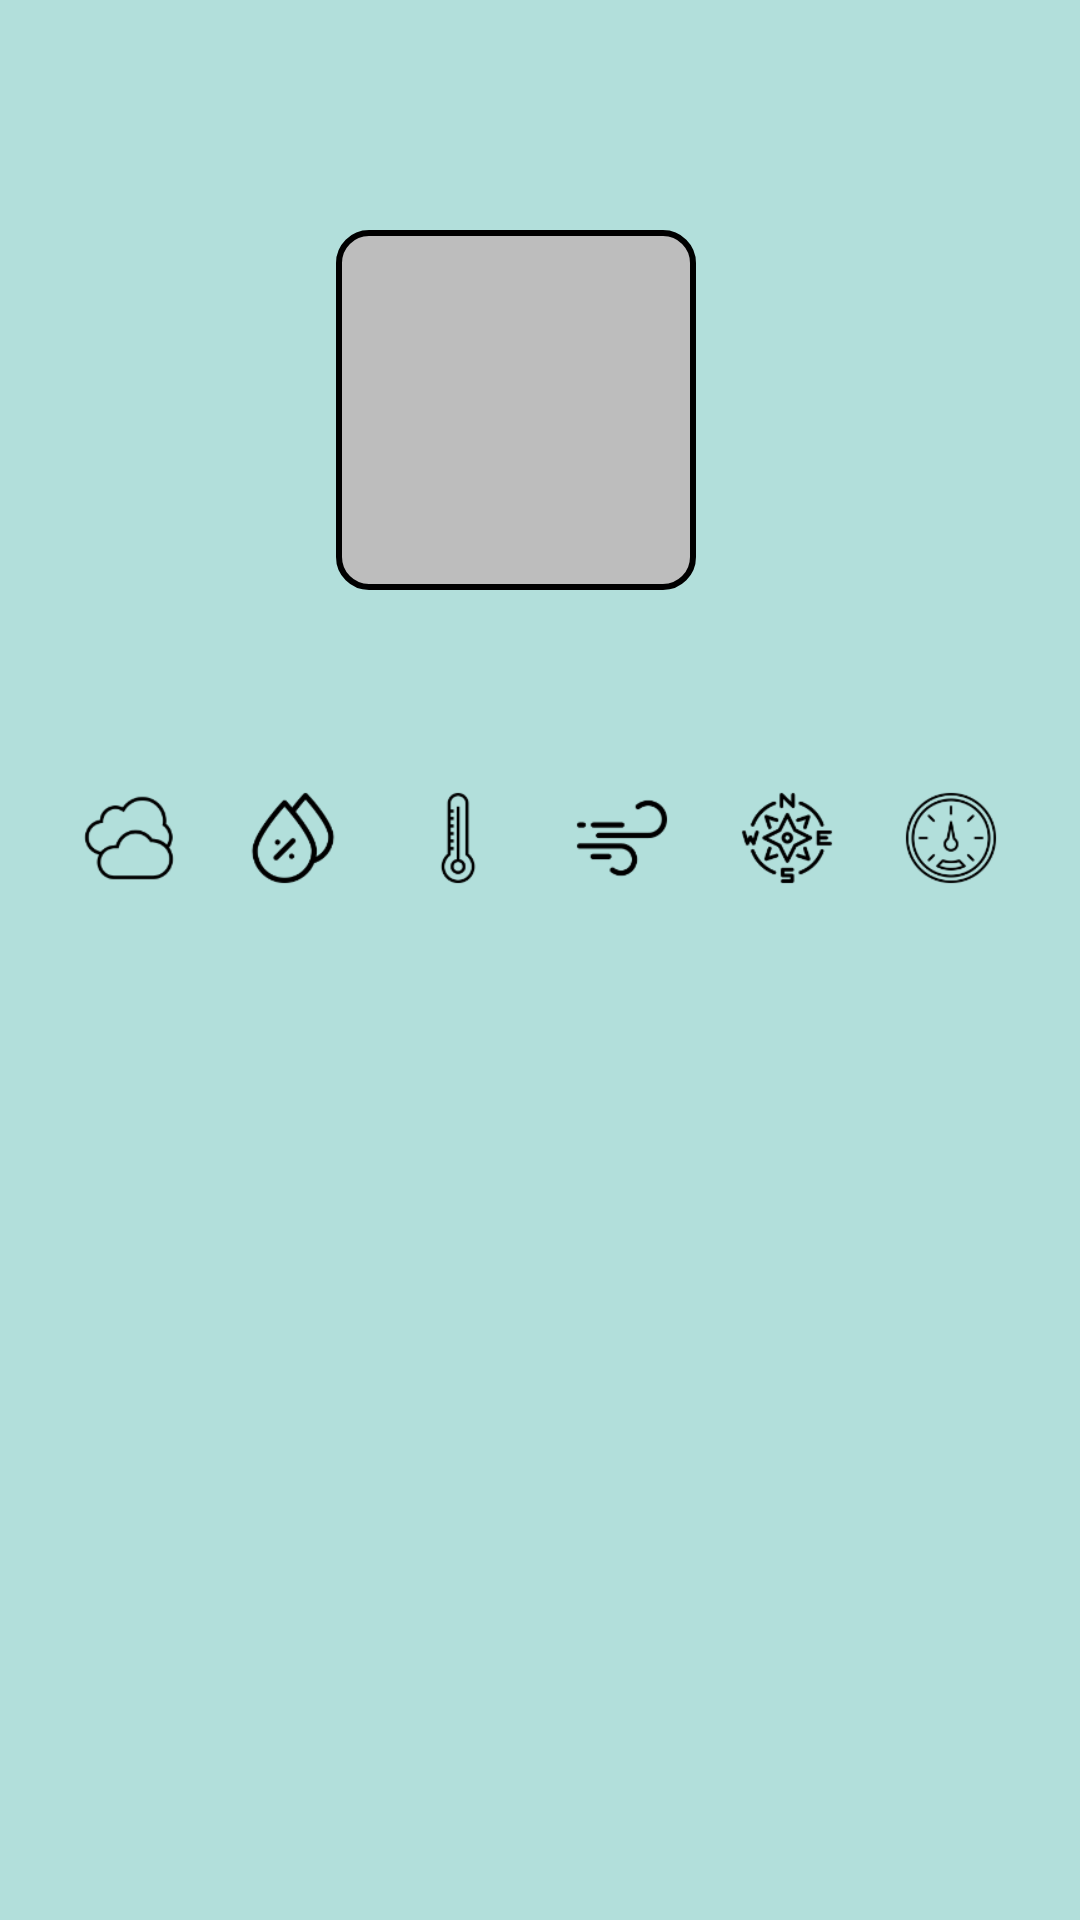

Screen size 1080*1920. Icon name, then its box in pixels as [x1,y1,x2,y2]:
cloud: [84,796,174,880]
humidity: [251,793,335,883]
pressure: [906,793,996,883]
wind: [577,800,667,876]
wind dir: [742,793,832,883]
